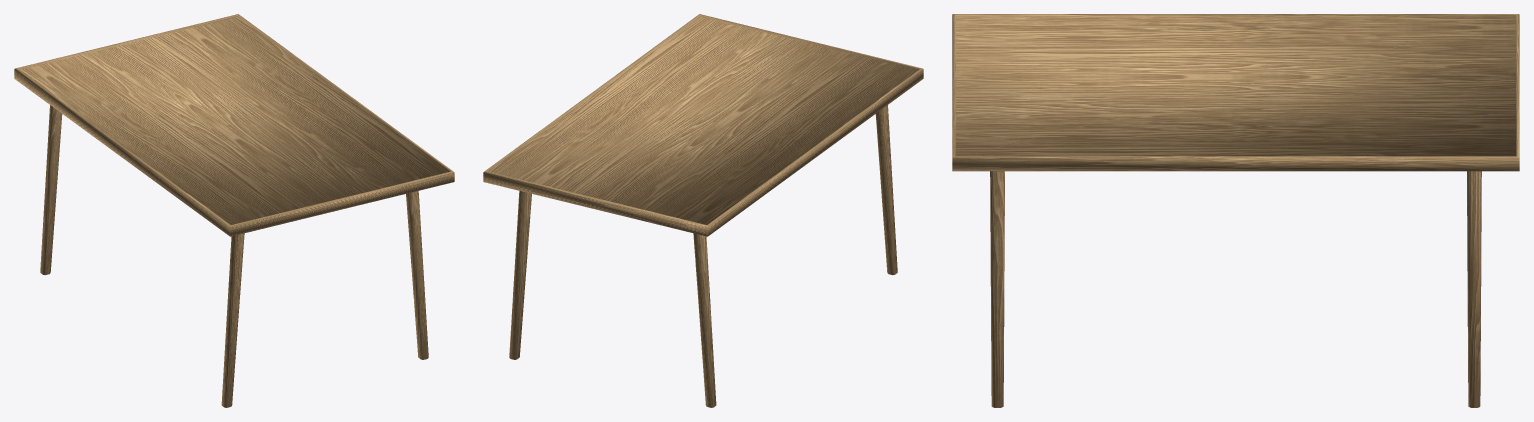
The model's file is b7b0eac0-f441-4077-bdcc-5c5f6739a7fe.glb.
3 renders of one model, left to right at view 1: azimuth 30°, elevation 25°; view 2: azimuth 150°, elevation 25°; view 3: azimuth 270°, elevation 25°, orthographic. The views are drawn at different scales.
Visible parts, largest first — view 1: Dining_Table_03; view 2: Dining_Table_03; view 3: Dining_Table_03.
Boxes of the visible parts, bbox=[...] form: Dining_Table_03: bbox=[14, 14, 454, 407]; Dining_Table_03: bbox=[483, 14, 923, 407]; Dining_Table_03: bbox=[952, 14, 1519, 407].
Bounding box in the file's own units: 0.9 × 0.75 × 1.5.
Materials: 1 (1 with a texture image).
